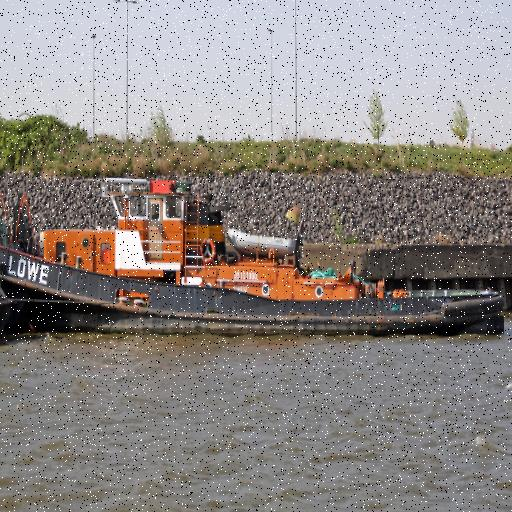tugboat: (1, 175, 509, 347)
